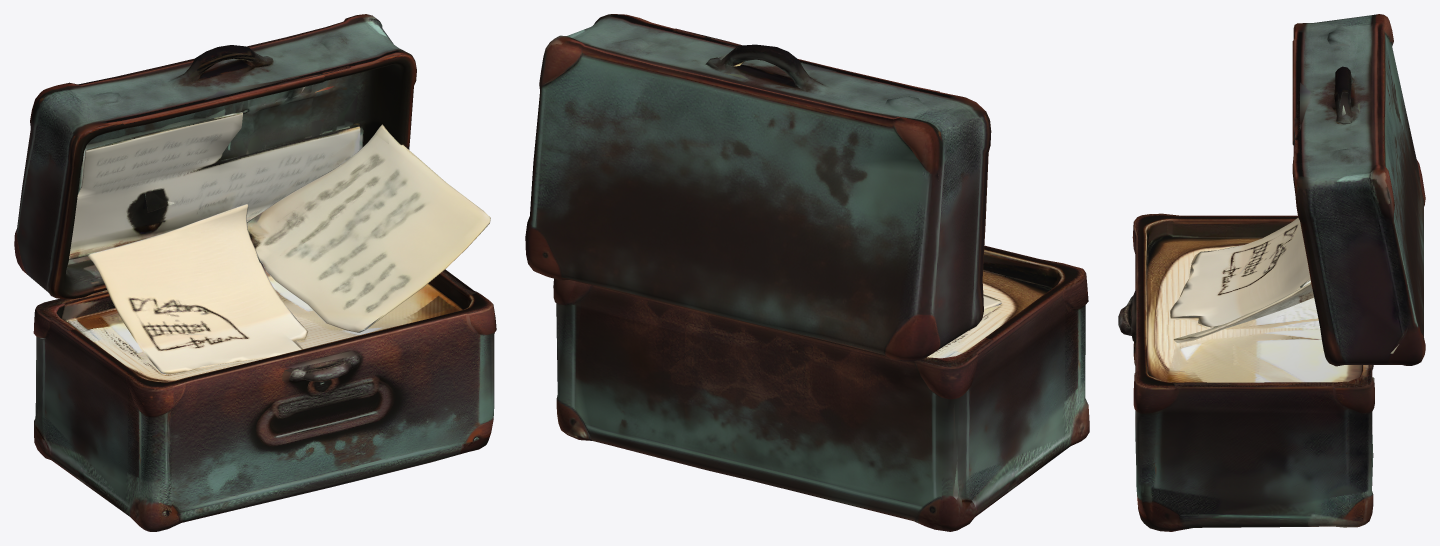
File: Meshy_AI_Small_metal_storage_b_0306044546_texture.fbx
The picture shows the model from 3 angles, left to right: view 1: azimuth 30°, elevation 25°; view 2: azimuth 150°, elevation 25°; view 3: azimuth 270°, elevation 25°; orthographic projection. The views are drawn at different scales.
Parts seen in each view (by area): view 1: Mesh_0; view 2: Mesh_0; view 3: Mesh_0.
Boxes of the visible parts, box(x1,y1,x2,y2) form: Mesh_0: box(14, 14, 496, 531); Mesh_0: box(525, 14, 1089, 531); Mesh_0: box(1118, 14, 1425, 531).
Bounding box in the file's own units: 189 × 179 × 133.
1 material, 1 textured.
